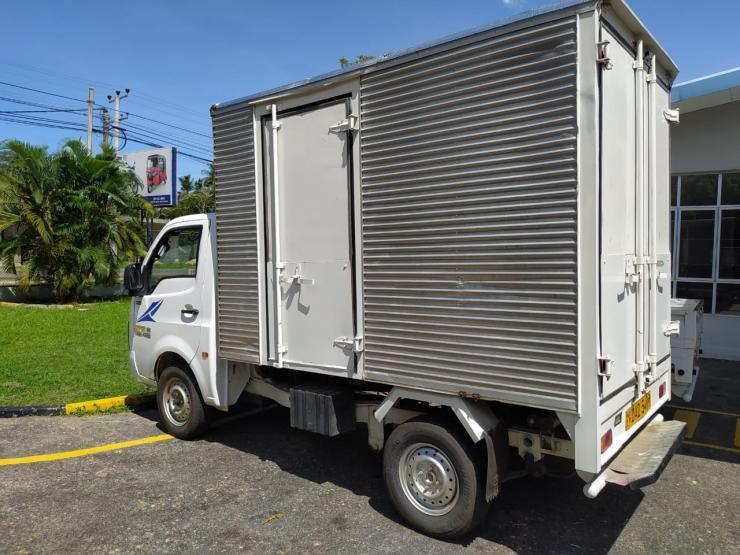truck: (124, 1, 687, 540)
